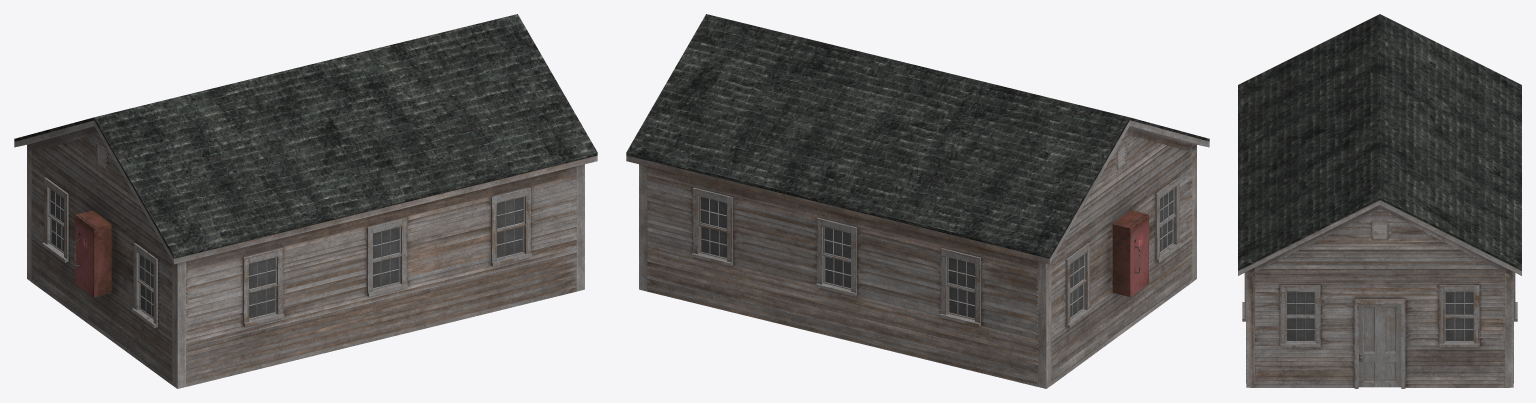
The model's file is school.fbx.
3 views of the same model, side by side, from view 1: azimuth 30°, elevation 25°; view 2: azimuth 150°, elevation 25°; view 3: azimuth 270°, elevation 25° (orthographic). The views are drawn at different scales.
Visible parts, largest first — view 1: school; view 2: school; view 3: school.
Boxes of the visible parts, <box> form: school: <box>14,14,597,388</box>; school: <box>626,14,1209,388</box>; school: <box>1238,14,1521,388</box>.
Bounding box in the file's own units: 1061 × 505 × 670.
Materials: 2 (2 with a texture image).
